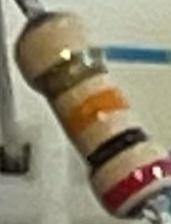Black: (82, 119, 155, 180)
Orange: (57, 83, 131, 140)
Red: (96, 154, 171, 217)
Side-Gold: (24, 39, 108, 100)
